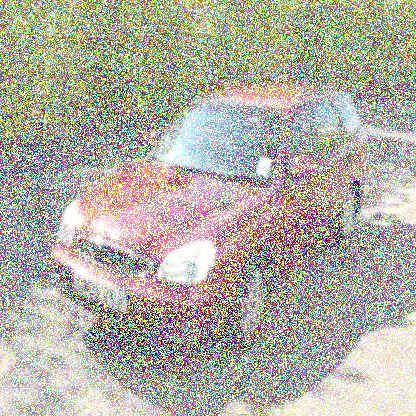Vehicle: (51, 37, 374, 354)
